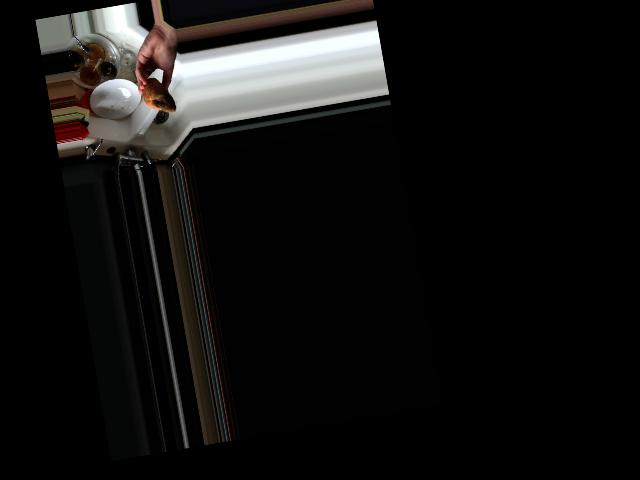sweet_potato: (138, 74, 179, 117)
